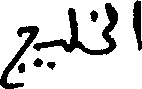ا: (132, 0, 140, 52)
ج: (0, 23, 35, 86)
خ: (88, 9, 113, 56)
ل: (65, 6, 76, 54), (104, 1, 117, 34)
ي: (33, 7, 68, 69)
